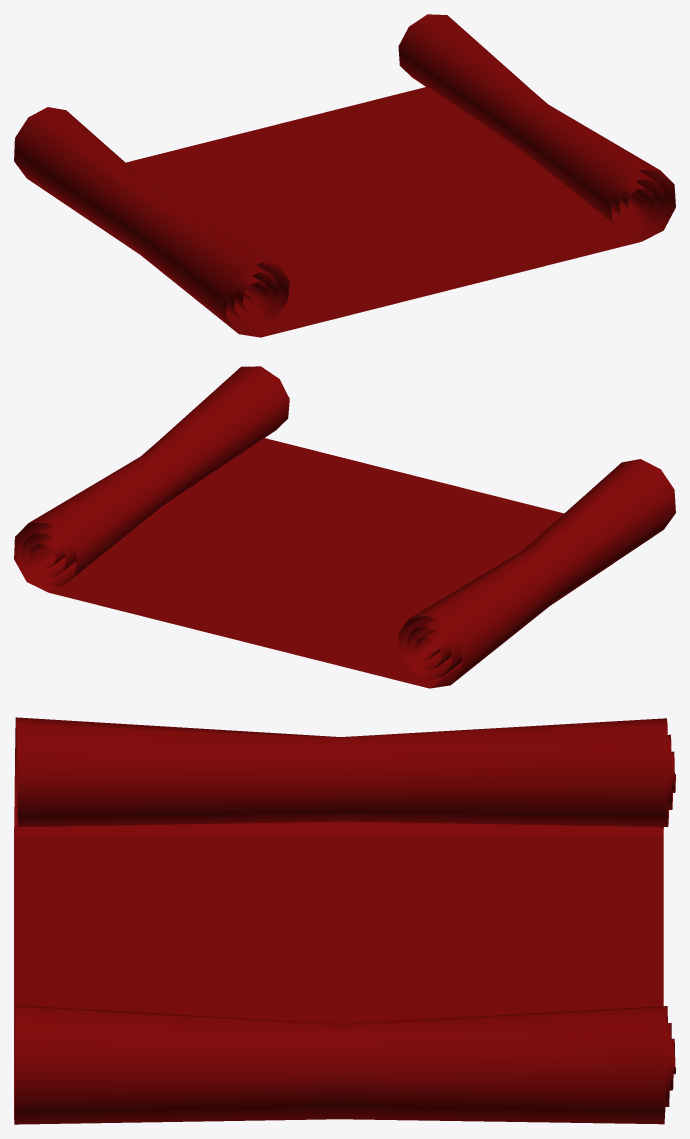
The model's file is HalloweenRoomA_ScrollC.fbx.
3 views of the same model, one above another, from view 1: azimuth 30°, elevation 25°; view 2: azimuth 150°, elevation 25°; view 3: azimuth 270°, elevation 25° (orthographic). The views are drawn at different scales.
Visible parts, largest first — view 1: HalloweenRoomA_ScrollC; view 2: HalloweenRoomA_ScrollC; view 3: HalloweenRoomA_ScrollC.
Boxes of the visible parts, x1,y1,x2,y2 form: HalloweenRoomA_ScrollC: [14, 14, 675, 337]; HalloweenRoomA_ScrollC: [14, 366, 675, 688]; HalloweenRoomA_ScrollC: [14, 717, 675, 1124].
Size of the model in its own units: 28.71 by 4.54 by 23.95.
